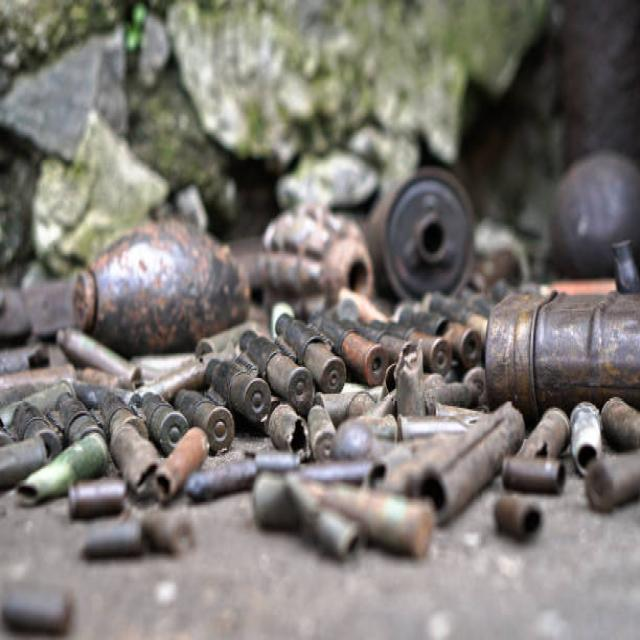grenade: (257, 197, 379, 314)
